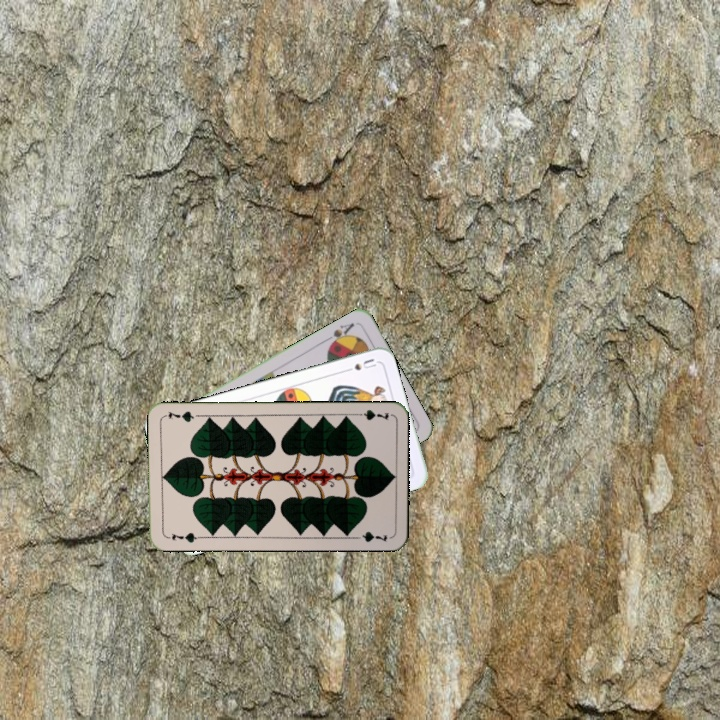G7: (163, 528, 203, 545), (351, 406, 391, 422)
SA: (321, 319, 357, 350)
SU: (339, 354, 379, 375)
